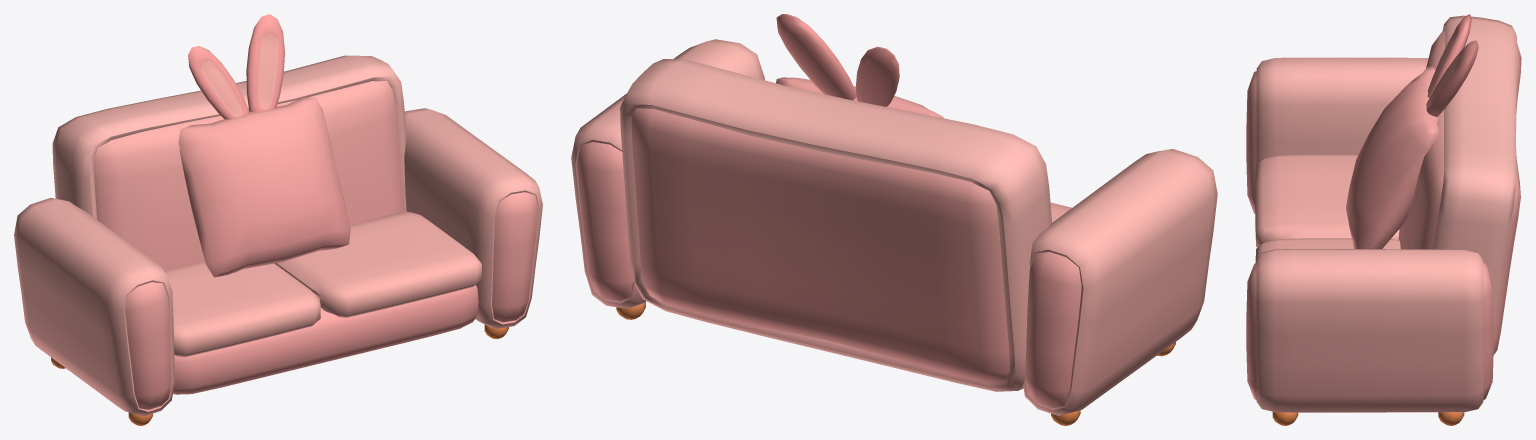
Rendered from Sofa.fbx.
3 renders of one model, left to right at view 1: azimuth 30°, elevation 25°; view 2: azimuth 150°, elevation 25°; view 3: azimuth 270°, elevation 25°, orthographic. The views are drawn at different scales.
Parts seen in each view (by area): view 1: Sofa; view 2: Sofa; view 3: Sofa.
Part boxes in pixels (x1,y1,x2,y2): Sofa: (14,14,542,425); Sofa: (571,14,1217,425); Sofa: (1246,14,1521,425).
Bounding box in the file's own units: 19.46 × 12.5 × 10.06.
Materials: 1 (1 with a texture image).
